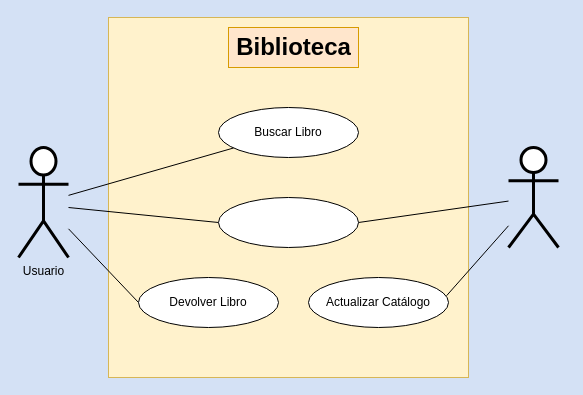
This 583x395 diagram has some shape labels left out. The shapes that lost their labels are listed below. From the top down, each one's centre as x and y in pixels, then its label:
At point 533,197: "Bibliotecario".
At point 288,222: "Prestar Libro".
